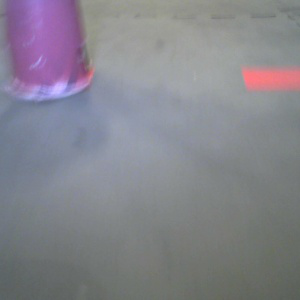right: (1, 1, 100, 105)
